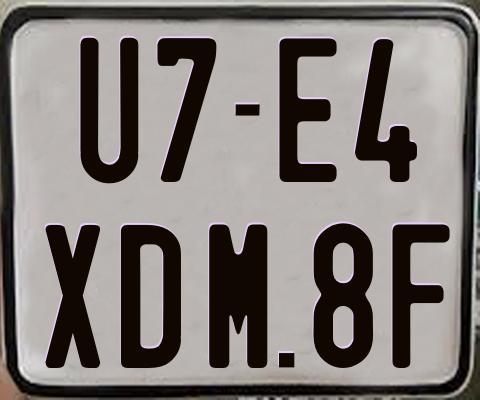4: (354, 39, 421, 182)
7: (156, 37, 219, 182)
8: (310, 220, 371, 370)
D: (120, 223, 181, 367)
E: (279, 38, 340, 184)
F: (391, 221, 449, 365)
M: (206, 221, 266, 371)
U: (77, 36, 136, 182)
X: (43, 224, 103, 373)
